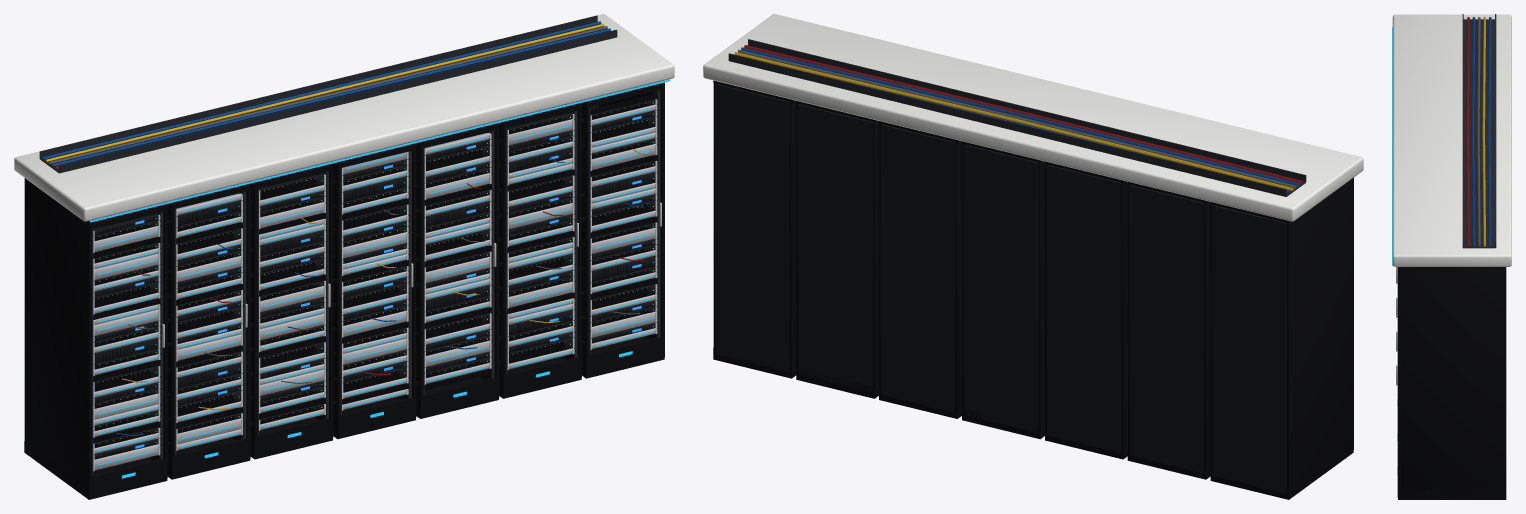
File: server_wall.glb
The picture shows the model from 3 angles, left to right: view 1: azimuth 30°, elevation 25°; view 2: azimuth 150°, elevation 25°; view 3: azimuth 270°, elevation 25°; orthographic projection. The views are drawn at different scales.
Visible parts, largest first — view 1: serverWallBody, rack0Body, rack4Body, rack3Body, rack2Body, rack1Body, rack6Body, rack5Body; view 2: serverWallBody, rack0Body, rack1Body, rack6Body, rack3Body, rack4Body, rack2Body, rack5Body; view 3: serverWallBody, rack6Body.
Boxes of the visible parts, bbox=[...] form: serverWallBody: bbox=[14, 14, 674, 445]; rack0Body: bbox=[24, 178, 167, 499]; rack4Body: bbox=[416, 121, 499, 418]; rack3Body: bbox=[333, 141, 416, 439]; rack2Body: bbox=[250, 161, 333, 459]; rack1Body: bbox=[167, 181, 250, 479]; rack6Body: bbox=[582, 80, 664, 378]; rack5Body: bbox=[499, 101, 581, 398]; serverWallBody: bbox=[703, 14, 1363, 472]; rack0Body: bbox=[1210, 177, 1353, 499]; rack1Body: bbox=[1127, 181, 1210, 479]; rack6Body: bbox=[713, 80, 796, 378]; rack3Body: bbox=[962, 141, 1044, 439]; rack4Body: bbox=[879, 121, 961, 418]; rack2Body: bbox=[1045, 161, 1127, 459]; rack5Body: bbox=[796, 101, 878, 398]; serverWallBody: bbox=[1392, 14, 1511, 266]; rack6Body: bbox=[1396, 267, 1506, 499].
Size of the model in its own units: 5.28 by 2.59 by 1.11.
